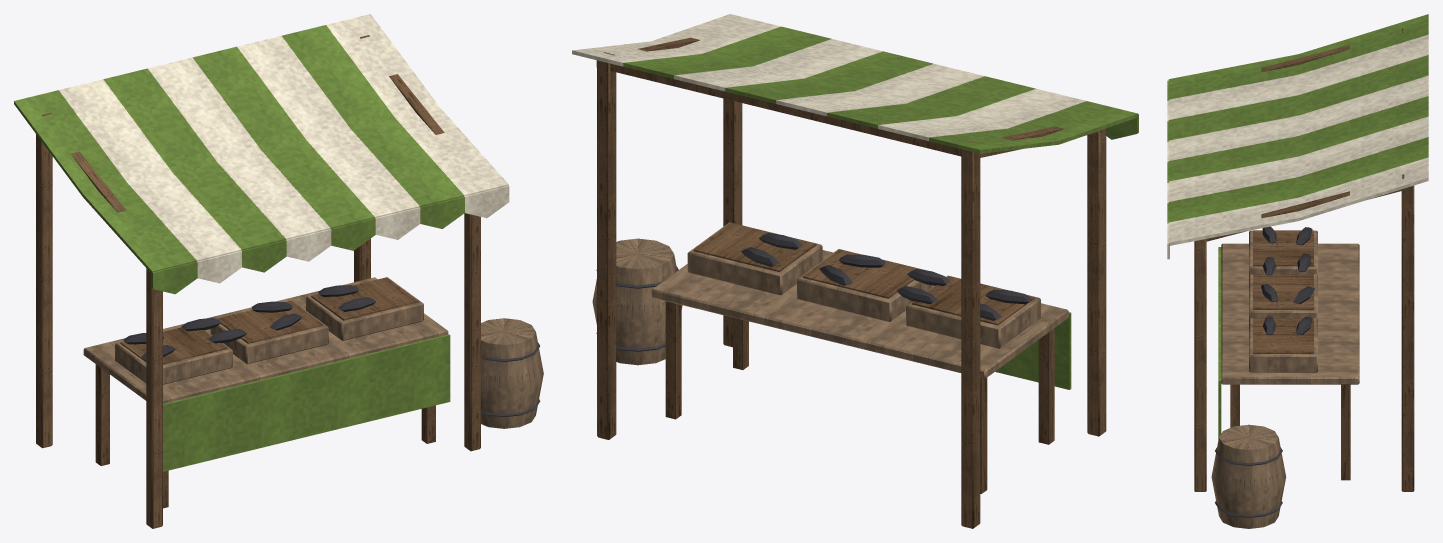
The model's file is biz_stall_t1_fish.glb.
3 views of the same model, side by side, from view 1: azimuth 30°, elevation 25°; view 2: azimuth 150°, elevation 25°; view 3: azimuth 270°, elevation 25° (orthographic). The views are drawn at different scales.
Parts seen in each view (by area): view 1: cloth_olive, cloth_cream, wood_dark, wood, iron; view 2: wood_dark, wood, cloth_olive, cloth_cream, iron; view 3: cloth_cream, cloth_olive, wood, wood_dark, iron.
Boxes of the visible parts, x1,y1,x2,y2 form: cloth_olive: (14, 25, 464, 471); cloth_cream: (59, 14, 509, 283); wood_dark: (36, 35, 480, 528); wood: (83, 277, 543, 428); iron: (123, 285, 540, 417); wood_dark: (596, 37, 1106, 528); wood: (592, 222, 1068, 378); cloth_olive: (623, 26, 1138, 389); cloth_cream: (572, 14, 1086, 141); iron: (596, 233, 1031, 351); cloth_cream: (1167, 34, 1428, 259); cloth_olive: (1167, 14, 1428, 439); wood: (1211, 230, 1359, 528); wood_dark: (1194, 28, 1414, 491); iron: (1215, 226, 1314, 517).
Size of the model in its own units: 3.37 by 2.56 by 1.89.
Materials: 6 (5 with a texture image).
